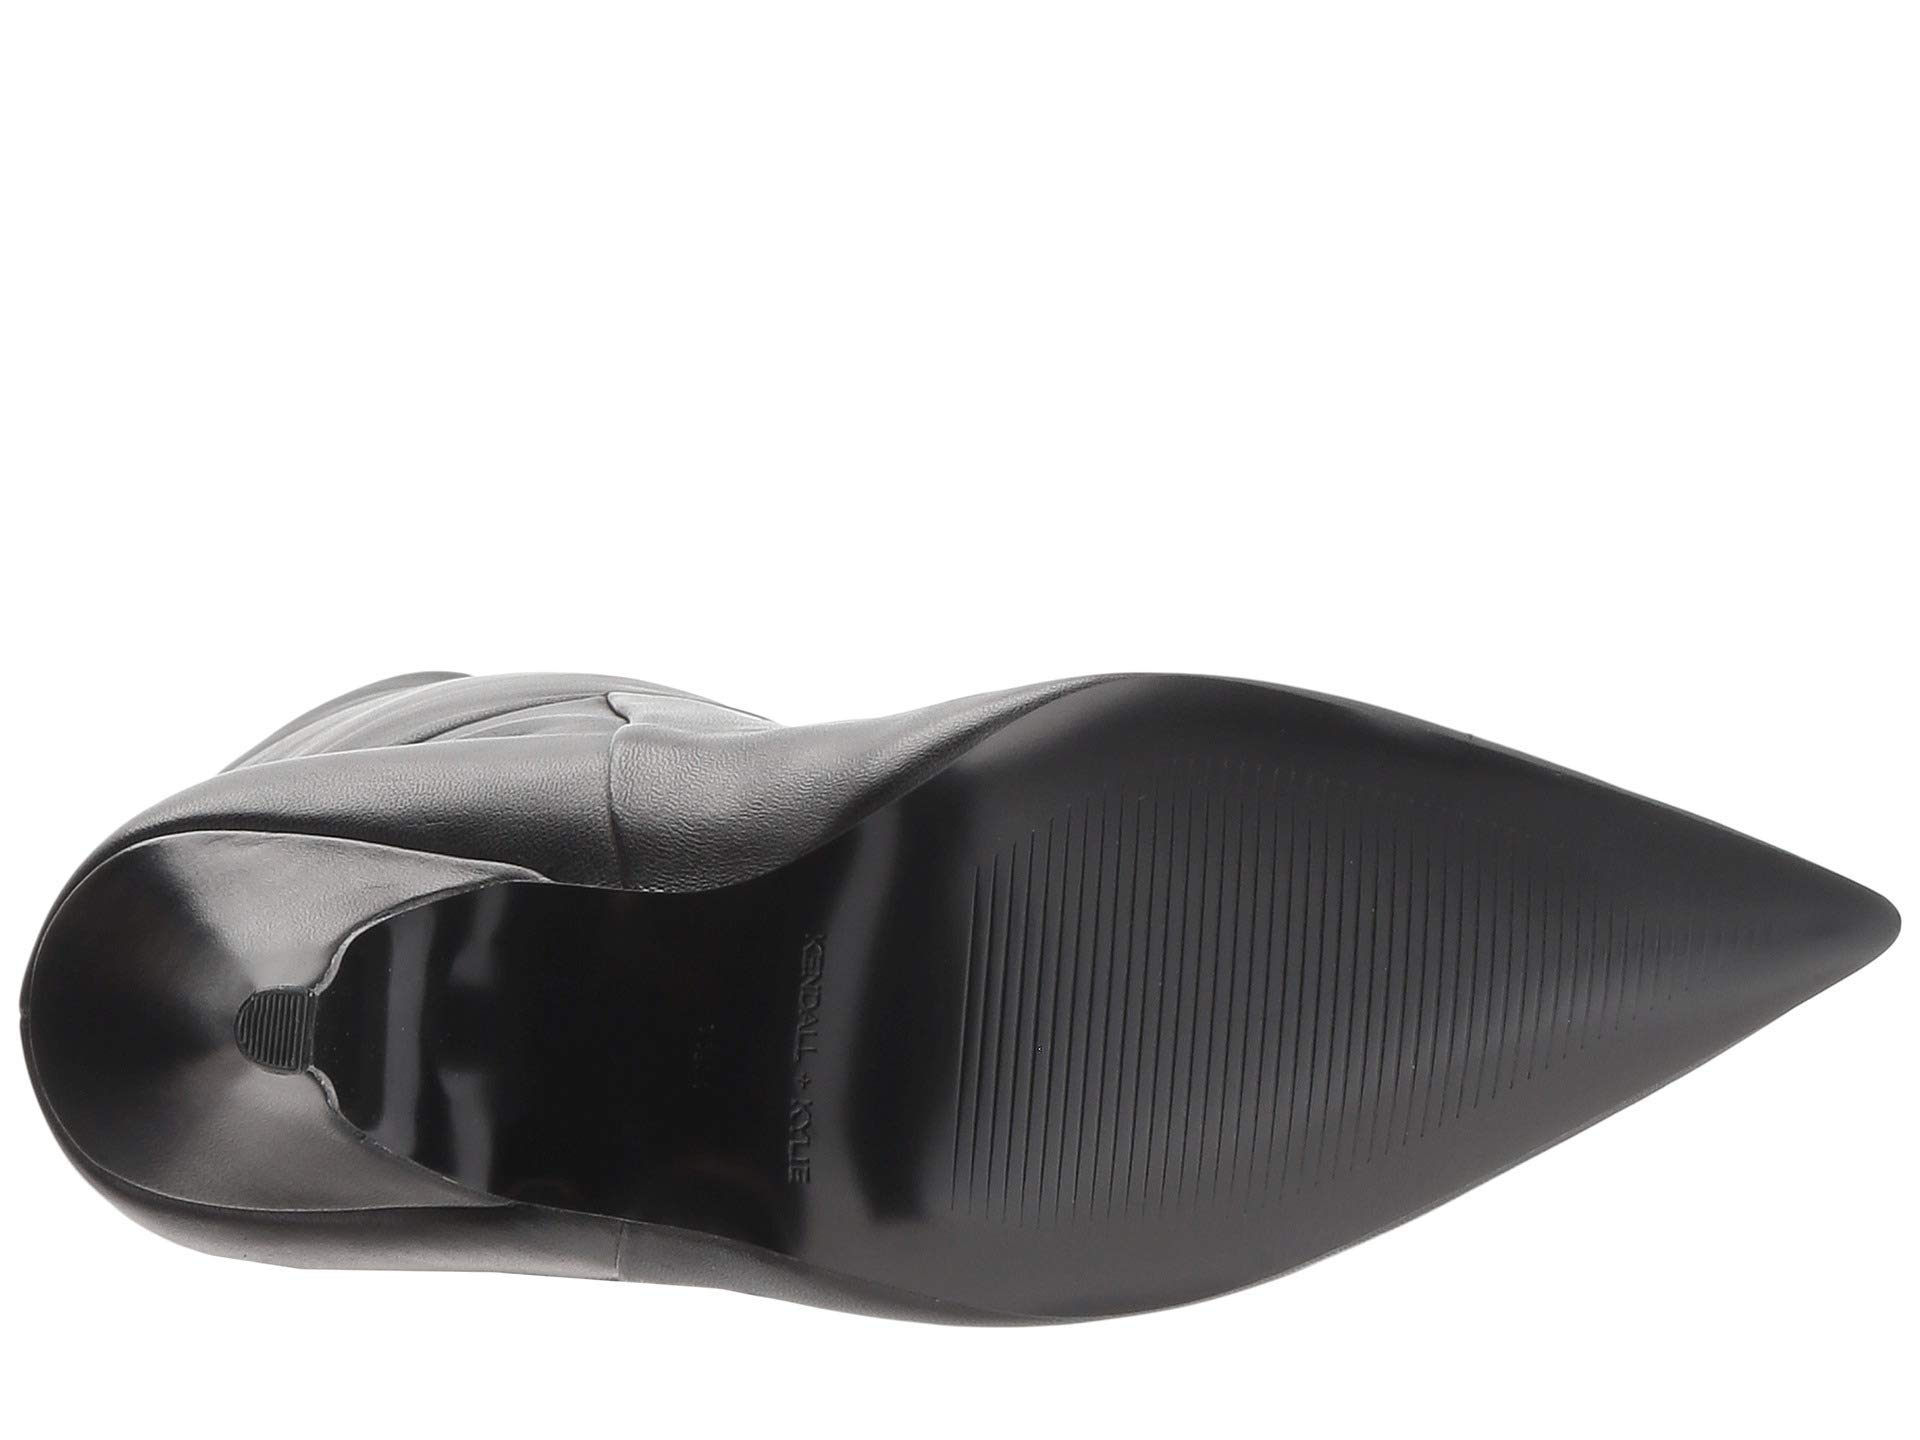exclude: (354, 771, 856, 1277)
line: (937, 836, 1674, 1063), (210, 997, 351, 1077)
